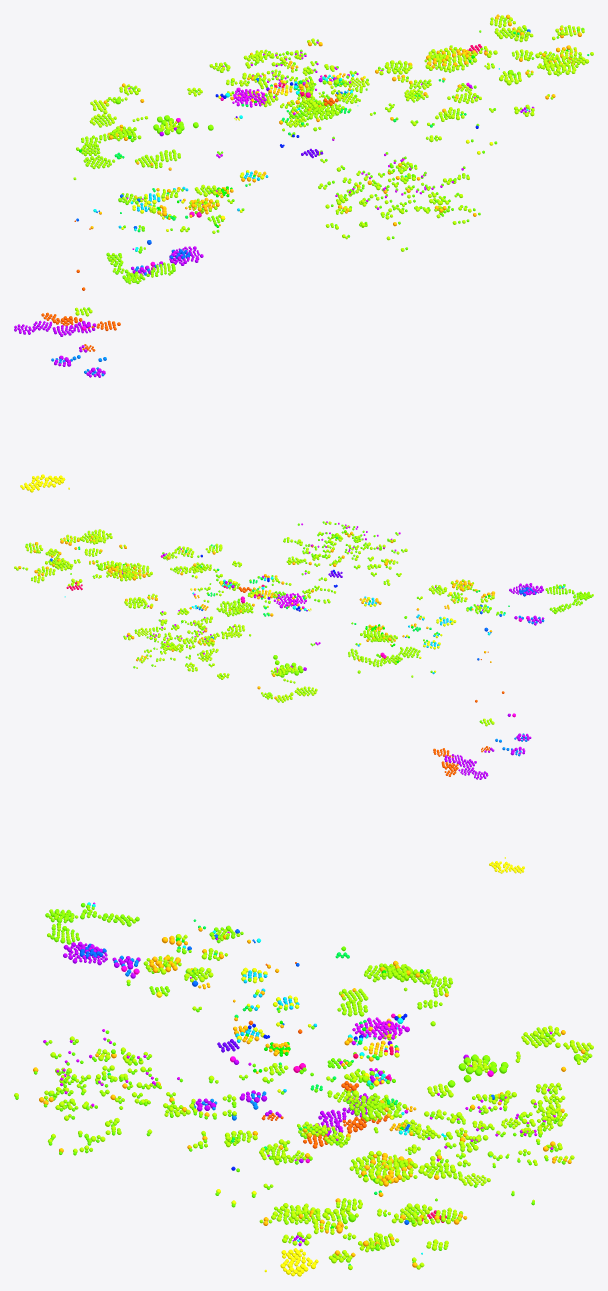
The model's file is task-36731c58f-layout.gltf.
3 renders of one model, top to bottom at view 1: azimuth 30°, elevation 25°; view 2: azimuth 150°, elevation 25°; view 3: azimuth 270°, elevation 25°, orthographic. The views are drawn at different scales.
Parts seen in each view (by area): view 1: normal_c_files, normal_h_files, diff_changed_files, normal_txt_files, normal_png_files, normal_cmake_files, normal_m_files, normal_xml_files; view 2: normal_c_files, normal_h_files, diff_changed_files, normal_txt_files, normal_png_files, normal_cmake_files; view 3: normal_c_files, normal_h_files, diff_changed_files, normal_txt_files, normal_png_files, normal_cmake_files, normal_m_files, normal_bmp_files, normal_xml_files, normal_java_files, normal_cpp_files, normal_in_files.
Part boxes in pixels (x1,y1,x2,y2): normal_c_files: (75, 15, 593, 316); normal_h_files: (73, 17, 582, 315); diff_changed_files: (90, 14, 581, 259); normal_txt_files: (87, 19, 584, 310); normal_png_files: (14, 77, 534, 377); normal_cmake_files: (126, 41, 475, 249); normal_m_files: (106, 66, 449, 283); normal_xml_files: (41, 97, 338, 351); normal_c_files: (14, 521, 494, 726); normal_h_files: (29, 522, 593, 724); diff_changed_files: (18, 531, 494, 699); normal_txt_files: (22, 521, 565, 722); normal_png_files: (118, 553, 544, 779); normal_cmake_files: (126, 521, 563, 672); normal_c_files: (14, 934, 593, 1270); normal_h_files: (44, 907, 592, 1262); diff_changed_files: (33, 927, 585, 1267); normal_txt_files: (15, 903, 565, 1262); normal_png_files: (63, 941, 472, 1246); normal_cmake_files: (43, 902, 555, 1161); normal_m_files: (45, 904, 448, 1162); normal_bmp_files: (149, 986, 580, 1224); normal_xml_files: (248, 962, 387, 1148); normal_java_files: (264, 1248, 318, 1276); normal_cpp_files: (216, 967, 399, 1204); normal_in_files: (107, 919, 398, 1265).
Size of the model in its own units: 463 by 236 by 311.
